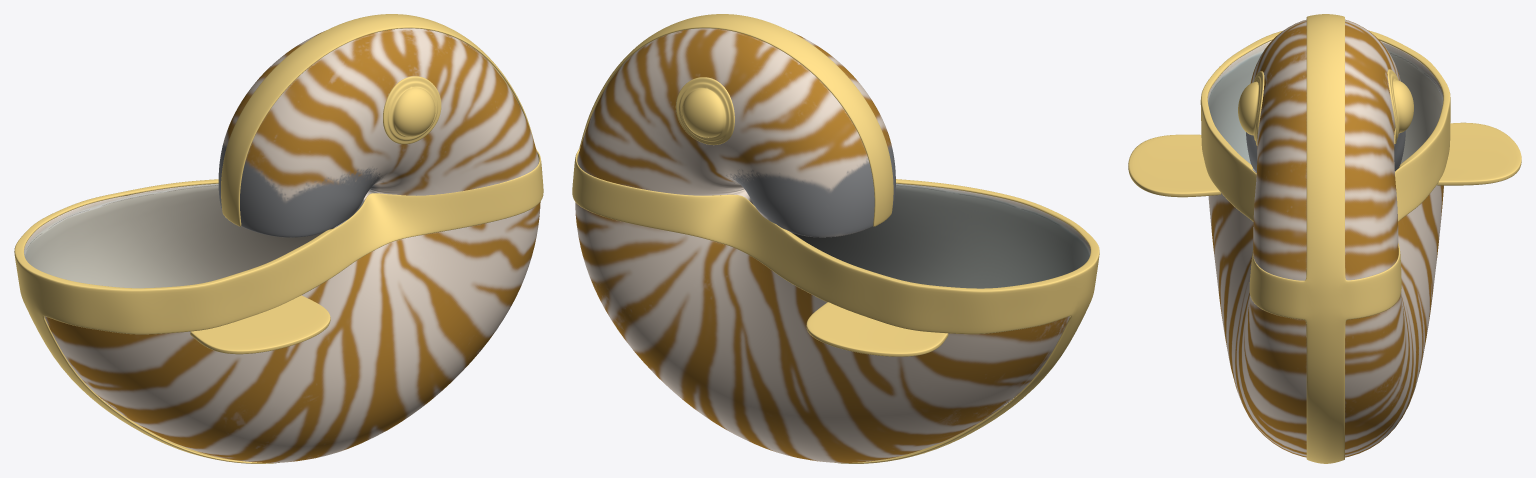
The model's file is art3_high.fbx.
3 views of the same model, side by side, from view 1: azimuth 30°, elevation 25°; view 2: azimuth 150°, elevation 25°; view 3: azimuth 270°, elevation 25° (orthographic). The views are drawn at different scales.
Visible parts, largest first — view 1: Object001; view 2: Object001; view 3: Object001.
Part boxes in pixels (bbox=[...]): Object001: bbox=[14, 14, 543, 463]; Object001: bbox=[572, 14, 1099, 463]; Object001: bbox=[1128, 14, 1521, 463].
Bounding box in the file's own units: 13.9 × 10.93 × 8.81.
